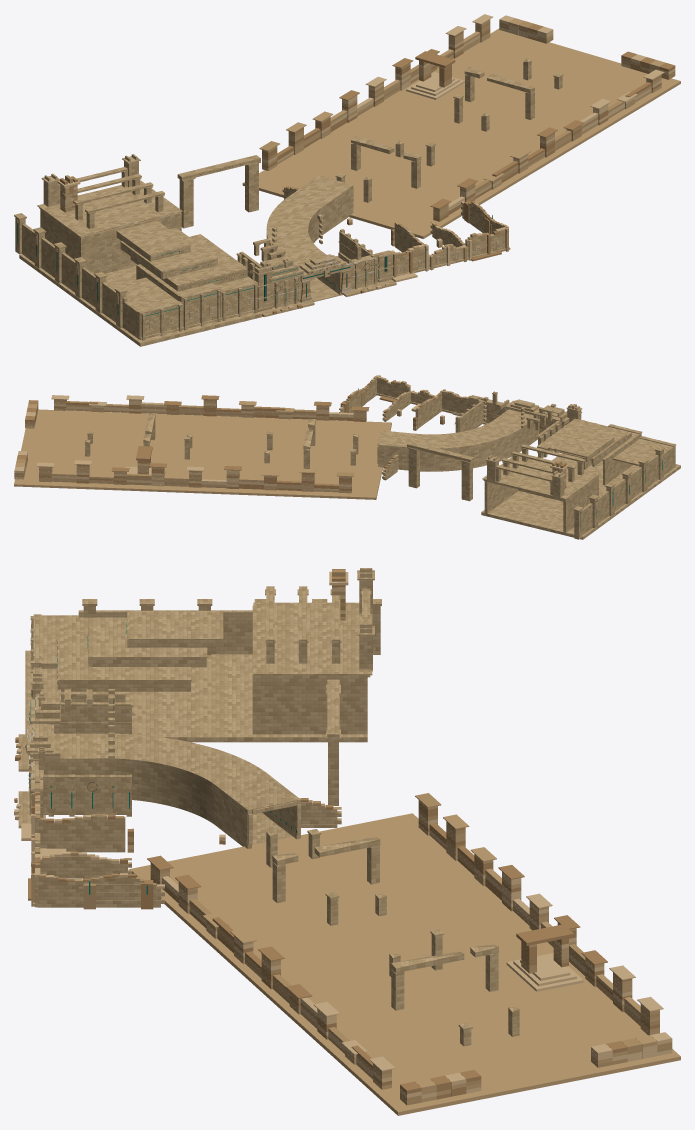
File: Ruins_Field_Courtyard_NearProps.obj
The picture shows the model from 3 angles, top to bottom: view 1: azimuth 30°, elevation 25°; view 2: azimuth 150°, elevation 25°; view 3: azimuth 270°, elevation 25°; orthographic projection. The views are drawn at different scales.
Visible parts, largest first — view 1: Ruins_Field_Courtyard_NearProps; view 2: Ruins_Field_Courtyard_NearProps; view 3: Ruins_Field_Courtyard_NearProps.
Boxes of the visible parts, bbox=[...] form: Ruins_Field_Courtyard_NearProps: bbox=[14, 14, 680, 346]; Ruins_Field_Courtyard_NearProps: bbox=[14, 375, 680, 539]; Ruins_Field_Courtyard_NearProps: bbox=[14, 568, 680, 1115].
Bounding box in the file's own units: 1606 × 182 × 975.
